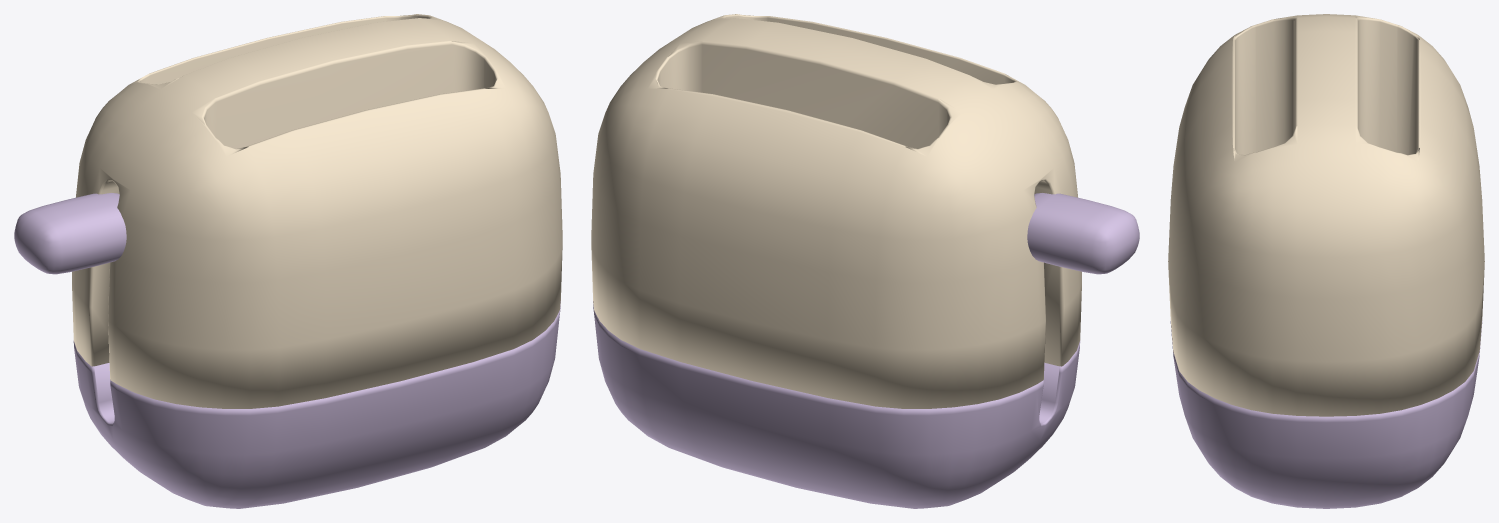
Rendered from toaster_c.glb.
The picture shows the model from 3 angles, left to right: view 1: azimuth 30°, elevation 25°; view 2: azimuth 150°, elevation 25°; view 3: azimuth 270°, elevation 25°; orthographic projection. The views are drawn at different scales.
Visible parts, largest first — view 1: body; view 2: body; view 3: body.
Part boxes in pixels (x1,y1,x2,y2): body: (14,14,562,508); body: (591,14,1139,508); body: (1168,14,1484,508).
Bounding box in the file's own units: 0.315 × 0.25 × 0.18.
